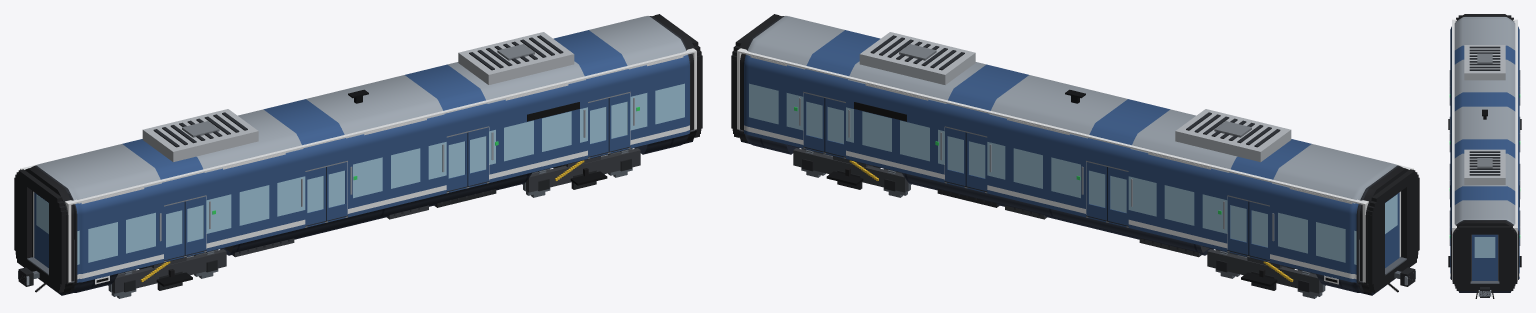
The model's file is moskva_car.obj.
The picture shows the model from 3 angles, left to right: view 1: azimuth 30°, elevation 25°; view 2: azimuth 150°, elevation 25°; view 3: azimuth 270°, elevation 25°; orthographic projection. The views are drawn at different scales.
Parts seen in each view (by area): view 1: SHELL, SHELL_roof, SHELL_diaphragm, SHELL_ceiling, BOGEY_FRONT, BOGEY_REAR, FRAME, EXTERNAL_DOOR_16_CG_DR3_TOGGLE_TL_-0.59_X, EXTERNAL_DOOR_4_CG_DR1_TOGGLE_TL_-0.59_X, EXTERNAL_DOOR_5_CG_DR1_TOGGLE_TL_0.59_X, EXTERNAL_DOOR_10_CG_DR2_TOGGLE_TL_-0.59_X, EXTERNAL_DOOR_23_CG_DR4_TOGGLE_TL_0.59_X (+7 smaller); view 2: SHELL, SHELL_roof, SHELL_diaphragm, SHELL_ceiling, BOGEY_FRONT, BOGEY_REAR, FRAME, EXTERNAL_DOOR_19_CG_DL3_TOGGLE_TL_-0.59_X, EXTERNAL_DOOR_7_CG_DL1_TOGGLE_TL_-0.59_X, EXTERNAL_DOOR_8_CG_DL1_TOGGLE_TL_0.59_X, EXTERNAL_DOOR_13_CG_DL2_TOGGLE_TL_-0.59_X, EXTERNAL_DOOR_26_CG_DL4_TOGGLE_TL_0.59_X (+7 smaller); view 3: SHELL, SHELL_roof, SHELL_diaphragm, SHELL_ceiling, CONNECTING_DOOR_2_CG_CF_TOGGLE_TL_0.98_Z, SHELL_handle, FRAME, SHELL_end, SHELL_gangway, SHELL_floor, BOGEY_FRONT.
Boxes of the visible parts, bbox=[...] form: SHELL: bbox=[25, 14, 697, 295]; SHELL_roof: bbox=[142, 32, 574, 162]; SHELL_diaphragm: bbox=[14, 14, 702, 292]; SHELL_ceiling: bbox=[23, 16, 694, 204]; BOGEY_FRONT: bbox=[526, 148, 640, 192]; BOGEY_REAR: bbox=[112, 249, 226, 293]; FRAME: bbox=[18, 146, 630, 292]; EXTERNAL_DOOR_16_CG_DR3_TOGGLE_TL_-0.59_X: bbox=[446, 132, 468, 191]; EXTERNAL_DOOR_4_CG_DR1_TOGGLE_TL_-0.59_X: bbox=[164, 201, 185, 260]; EXTERNAL_DOOR_5_CG_DR1_TOGGLE_TL_0.59_X: bbox=[185, 196, 206, 254]; EXTERNAL_DOOR_10_CG_DR2_TOGGLE_TL_-0.59_X: bbox=[305, 167, 326, 225]; EXTERNAL_DOOR_23_CG_DR4_TOGGLE_TL_0.59_X: bbox=[609, 93, 630, 151]; SHELL: bbox=[736, 14, 1408, 295]; SHELL_roof: bbox=[859, 32, 1291, 162]; SHELL_diaphragm: bbox=[731, 14, 1419, 292]; SHELL_ceiling: bbox=[739, 16, 1411, 204]; BOGEY_FRONT: bbox=[793, 148, 907, 192]; BOGEY_REAR: bbox=[1207, 249, 1321, 293]; FRAME: bbox=[803, 146, 1415, 292]; EXTERNAL_DOOR_19_CG_DL3_TOGGLE_TL_-0.59_X: bbox=[965, 132, 987, 191]; EXTERNAL_DOOR_7_CG_DL1_TOGGLE_TL_-0.59_X: bbox=[1248, 201, 1269, 260]; EXTERNAL_DOOR_8_CG_DL1_TOGGLE_TL_0.59_X: bbox=[1227, 196, 1248, 254]; EXTERNAL_DOOR_13_CG_DL2_TOGGLE_TL_-0.59_X: bbox=[1107, 167, 1128, 225]; EXTERNAL_DOOR_26_CG_DL4_TOGGLE_TL_0.59_X: bbox=[803, 93, 824, 151]; SHELL: bbox=[1450, 14, 1519, 292]; SHELL_roof: bbox=[1464, 45, 1505, 184]; SHELL_diaphragm: bbox=[1452, 15, 1517, 290]; SHELL_ceiling: bbox=[1452, 20, 1517, 227]; CONNECTING_DOOR_2_CG_CF_TOGGLE_TL_0.98_Z: bbox=[1472, 234, 1497, 280]; SHELL_handle: bbox=[1449, 70, 1520, 245]; FRAME: bbox=[1475, 287, 1494, 298]; SHELL_end: bbox=[1452, 19, 1517, 280]; SHELL_gangway: bbox=[1470, 280, 1499, 283]; SHELL_floor: bbox=[1471, 235, 1498, 279]; BOGEY_FRONT: bbox=[1448, 256, 1521, 267].
Bounding box in the file's own units: 20.44 × 3.96 × 2.84.
1 material, 1 textured.
